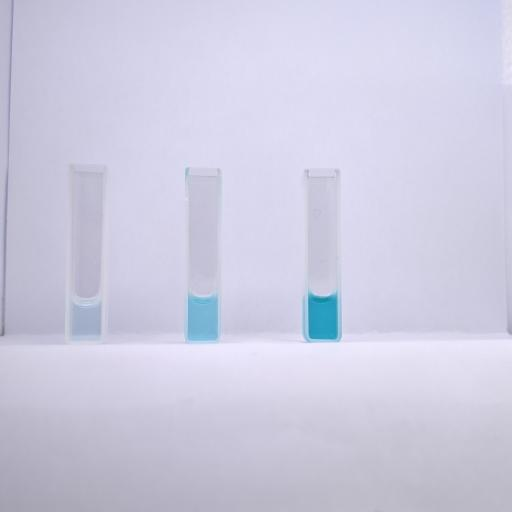cuvette: (64, 160, 110, 346), (183, 166, 224, 343), (303, 167, 344, 343)
liquid: (308, 292, 338, 340), (71, 297, 101, 342), (188, 294, 218, 339)
